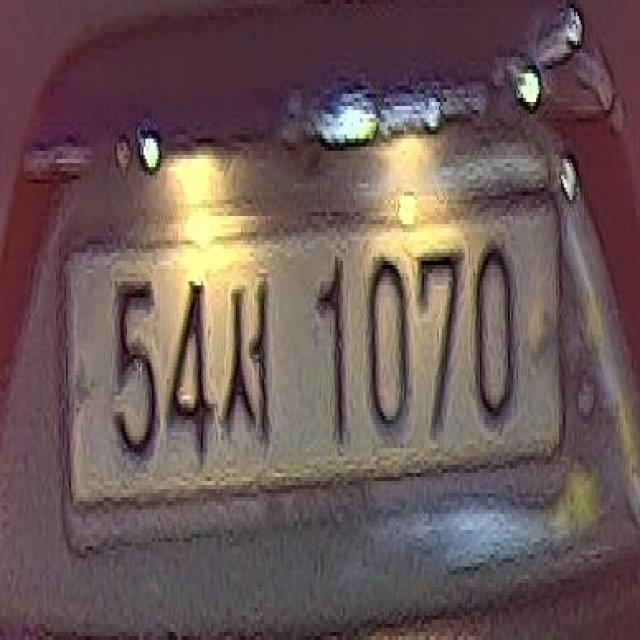0: (468, 224, 524, 440), (354, 237, 408, 452)
1: (312, 252, 356, 460)
3: (155, 253, 214, 473)
5: (99, 236, 165, 473)
7: (411, 224, 467, 461)
license_plate: (50, 184, 574, 550)
seo: (221, 261, 279, 461)
